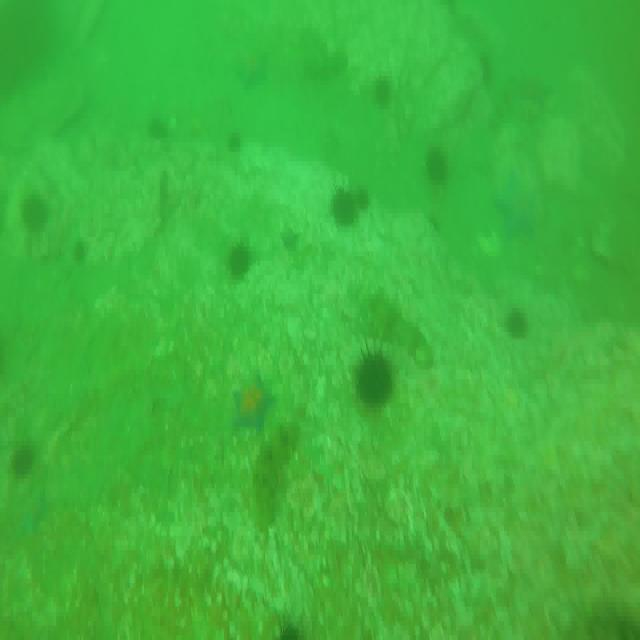echinus: (354, 342, 397, 416), (330, 186, 358, 225), (228, 242, 254, 282), (428, 144, 451, 182), (145, 111, 170, 144), (12, 443, 34, 478), (24, 200, 48, 232), (504, 308, 530, 337), (276, 617, 304, 640), (371, 79, 392, 104), (228, 132, 243, 163), (74, 237, 89, 266), (352, 186, 371, 207)
holothurian: (256, 402, 301, 541), (363, 286, 433, 367)
starfish: (500, 173, 537, 240), (17, 485, 53, 540), (236, 379, 270, 429), (280, 228, 300, 257)
